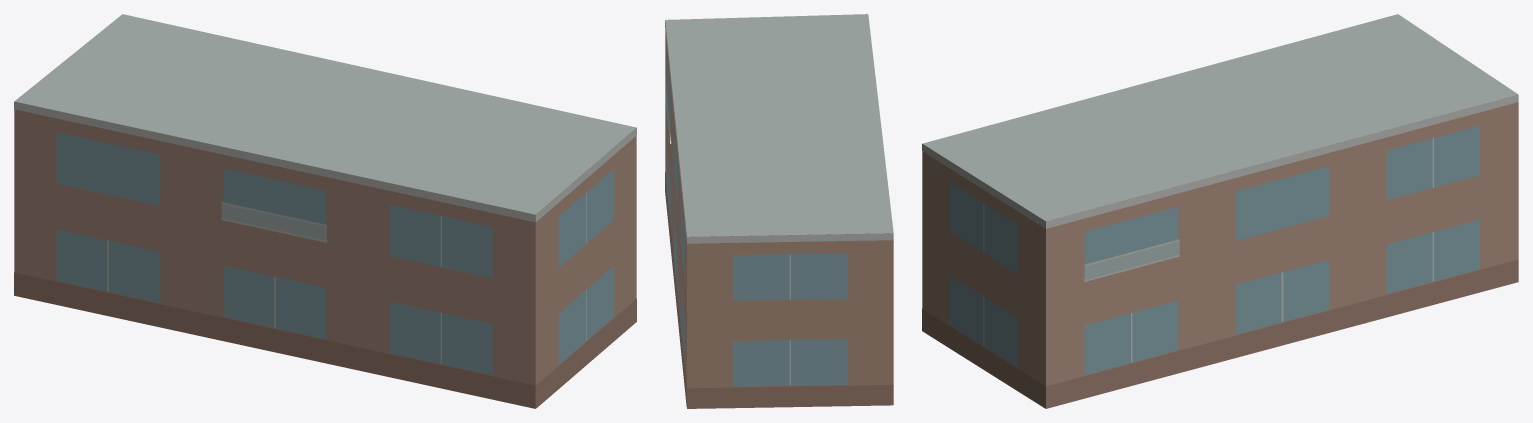
Rendered from survey-upis-32761849.glb.
The picture shows the model from 3 angles, left to right: view 1: azimuth 30°, elevation 25°; view 2: azimuth 150°, elevation 25°; view 3: azimuth 270°, elevation 25°; orthographic projection. The views are drawn at different scales.
Visible parts, largest first — view 1: survey-upis-32761849.tmp; view 2: survey-upis-32761849.tmp; view 3: survey-upis-32761849.tmp.
Part boxes in pixels (x1,y1,x2,y2): survey-upis-32761849.tmp: [14, 14, 636, 408]; survey-upis-32761849.tmp: [665, 14, 893, 408]; survey-upis-32761849.tmp: [922, 14, 1518, 408].
Size of the model in its own units: 14.48 by 6.1 by 17.6.
